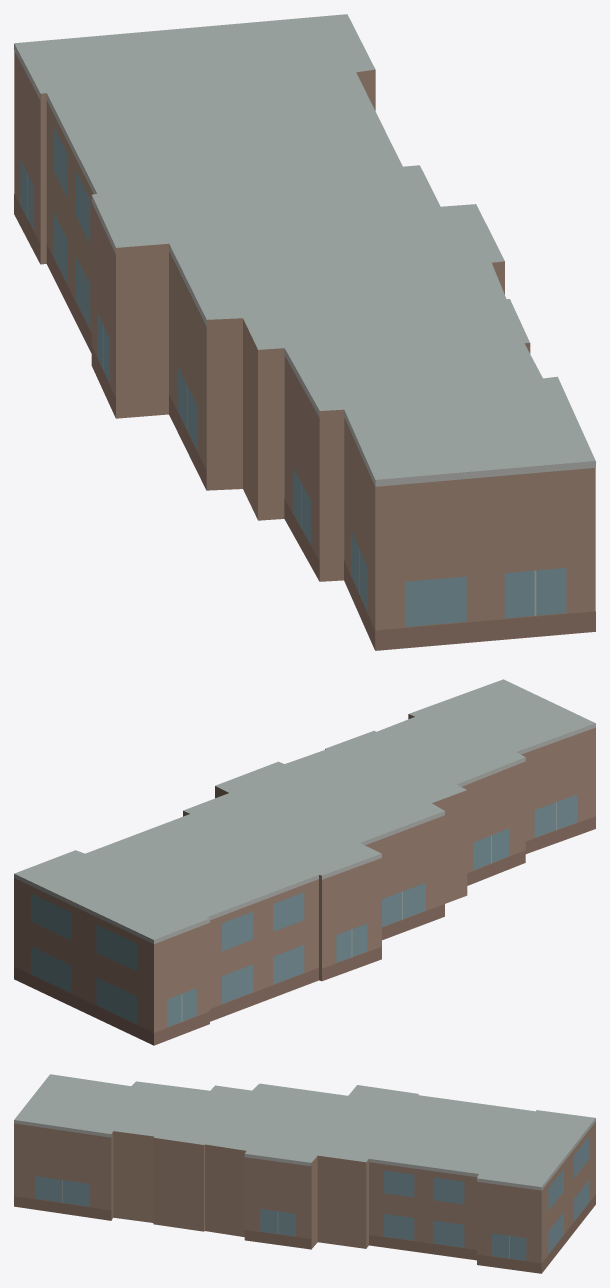
Rendered from survey-upis-32670492.glb.
3 views of the same model, one above another, from view 1: azimuth 30°, elevation 25°; view 2: azimuth 150°, elevation 25°; view 3: azimuth 270°, elevation 25° (orthographic). The views are drawn at different scales.
Visible parts, largest first — view 1: survey-upis-32670492.tmp; view 2: survey-upis-32670492.tmp; view 3: survey-upis-32670492.tmp.
Boxes of the visible parts, x1=… form: survey-upis-32670492.tmp: x1=14, y1=14, x2=595, y2=650; survey-upis-32670492.tmp: x1=14, y1=679, x2=595, y2=1045; survey-upis-32670492.tmp: x1=14, y1=1074, x2=595, y2=1273.
Size of the model in its own units: 17.08 by 6.1 by 37.14.
